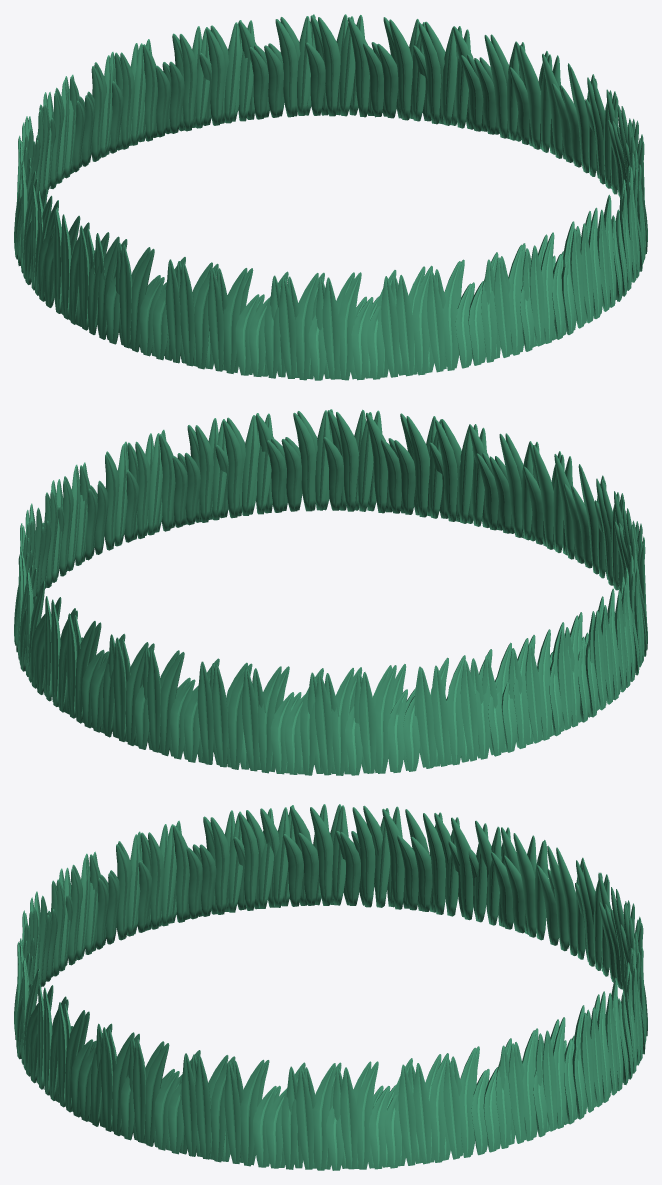
Rendered from Grass.fbx.
3 views of the same model, one above another, from view 1: azimuth 30°, elevation 25°; view 2: azimuth 150°, elevation 25°; view 3: azimuth 270°, elevation 25° (orthographic).
Visible parts, largest first — view 1: GrassB.211, GrassB.208, GrassA.119, GrassA.118, GrassA.120, GrassB.205, GrassB.222, GrassB.224, GrassA.125, GrassA.117, GrassB.006, GrassB.017 (+88 smaller); view 2: GrassB.154, GrassB.151, GrassA.045, GrassA.046, GrassB.165, GrassA.044, GrassB.148, GrassA.051, GrassB.033, GrassB.137, GrassB.030, GrassA.035 (+86 smaller); view 3: GrassB.181, GrassB.178, GrassA.058, GrassB.225, GrassA.057, GrassA.059, GrassB.175, GrassB.060, GrassB.184, GrassA.126, GrassA.060, GrassA.056 (+89 smaller).
Boxes of the visible parts, x1,y1,x2,y2 form: GrassB.211: (295,273,318,380); GrassB.208: (338,272,361,380); GrassA.119: (322,277,339,379); GrassA.118: (381,276,399,377); GrassA.120: (279,276,296,378); GrassB.205: (412,265,432,375); GrassB.222: (223,268,247,373); GrassB.224: (442,261,460,370); GrassA.125: (427,271,444,372); GrassA.117: (396,275,414,376); GrassB.006: (318,17,340,116); GrassB.017: (389,19,412,120); GrassB.154: (331,668,354,775); GrassB.151: (374,665,396,773); GrassA.045: (359,672,376,773); GrassA.046: (315,673,332,775); GrassB.165: (258,666,281,773); GrassA.044: (416,667,434,768); GrassB.148: (447,655,465,765); GrassA.051: (242,668,258,771); GrassB.033: (336,412,358,511); GrassB.137: (406,416,429,517); GrassB.030: (293,412,316,511); GrassA.035: (431,665,448,766); GrassB.181: (312,1063,335,1170); GrassB.178: (356,1061,378,1169); GrassA.058: (340,1067,357,1169); GrassB.225: (240,1059,264,1166); GrassA.057: (398,1064,416,1165); GrassA.059: (296,1067,313,1169); GrassB.175: (429,1053,448,1162); GrassB.060: (310,807,333,905); GrassB.184: (458,1047,476,1157); GrassA.126: (224,1061,240,1163); GrassA.060: (443,1058,460,1159); GrassA.056: (413,1063,431,1164).
Size of the model in its own units: 32622 by 5892 by 32644.
